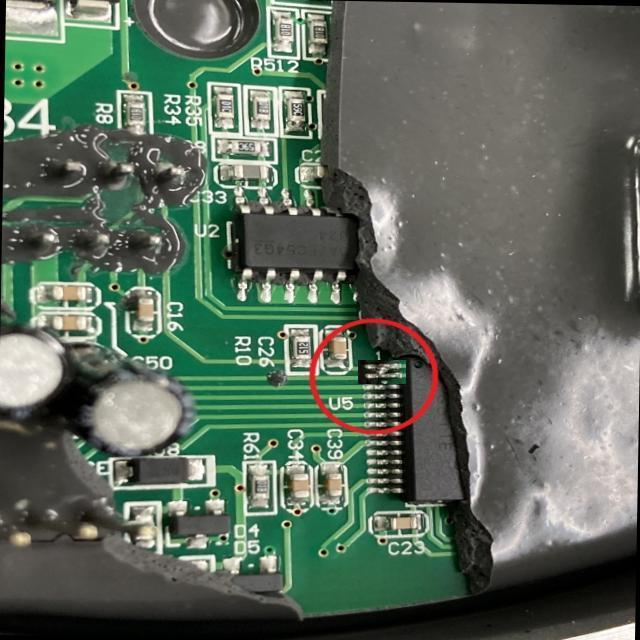damged: (358, 360, 406, 384)
